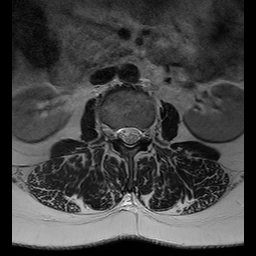CCS_normal: (126, 118, 134, 155)
LFS_normal: (143, 118, 152, 146)
LLS_normal: (134, 118, 143, 150)
RFS_normal: (108, 119, 117, 148)
RLS_normal: (117, 119, 126, 150)
